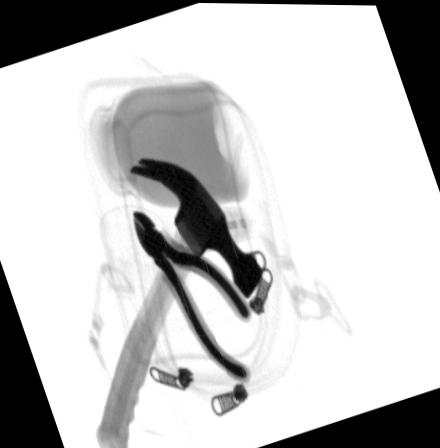Hammer: (95, 155, 262, 448)
Pliers: (132, 207, 252, 383)
